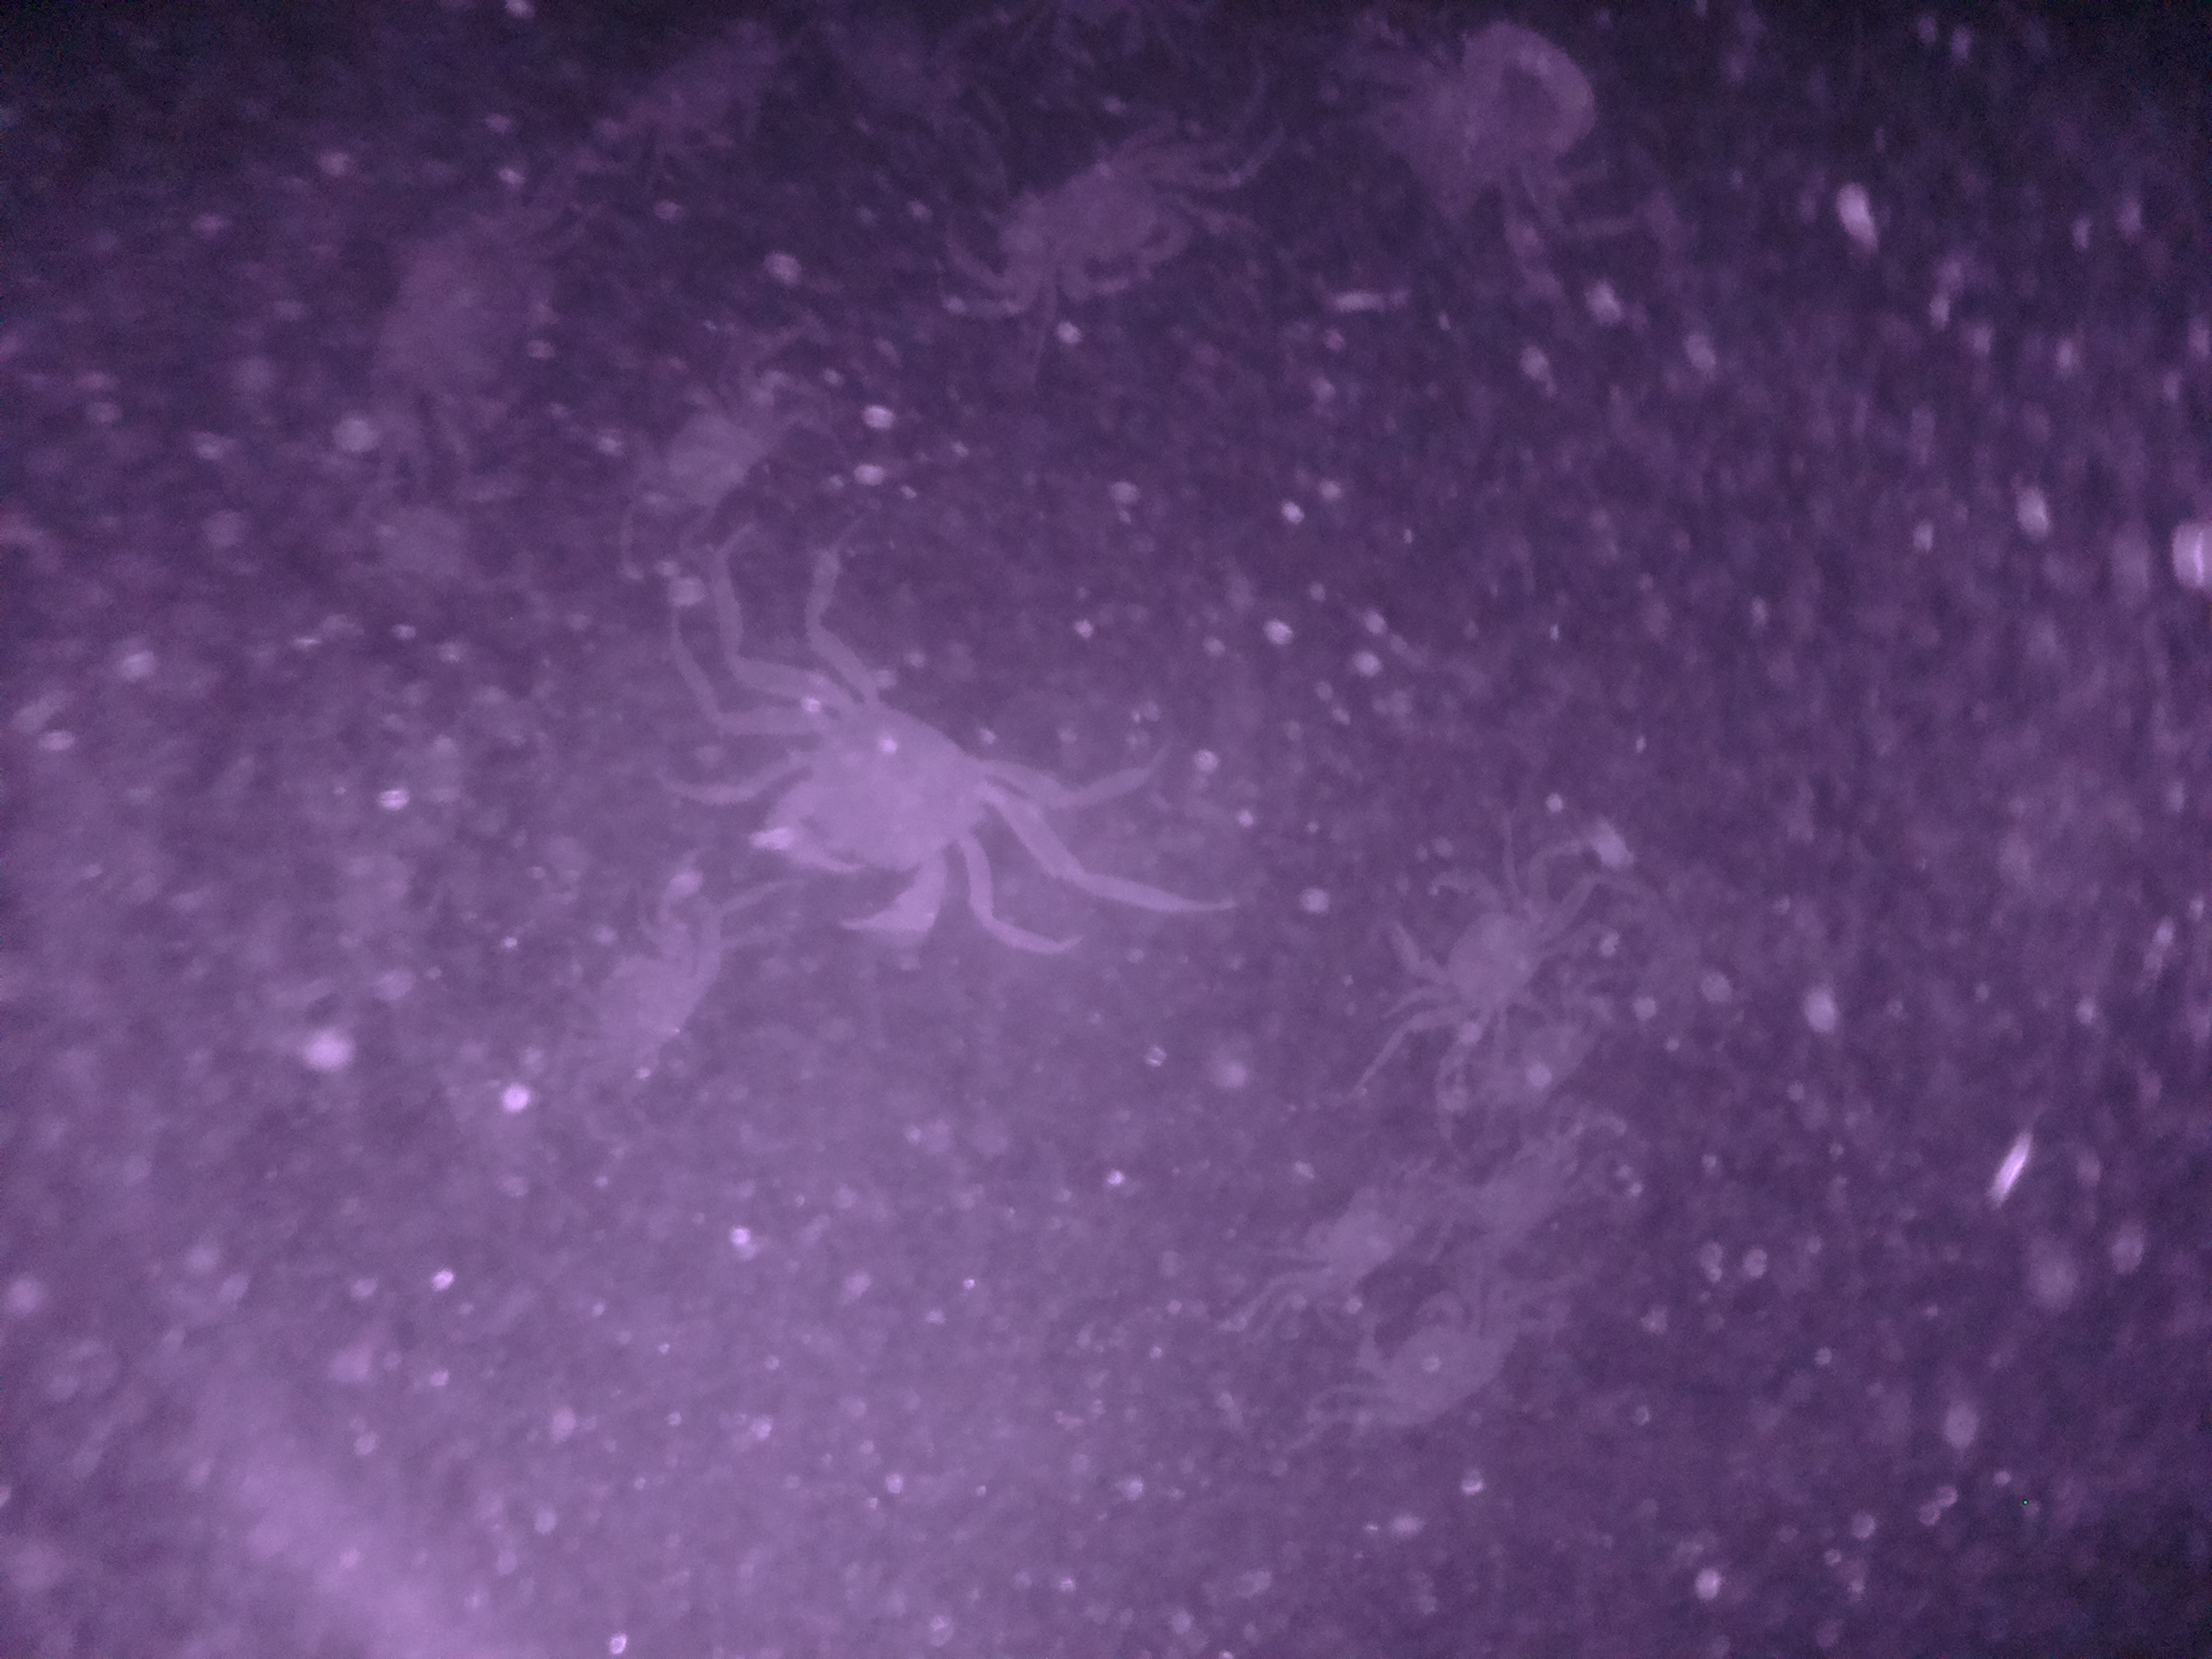Crab: (1367, 847, 1585, 1051), (998, 125, 1233, 303), (1338, 1267, 1517, 1436), (1263, 1176, 1425, 1312)
